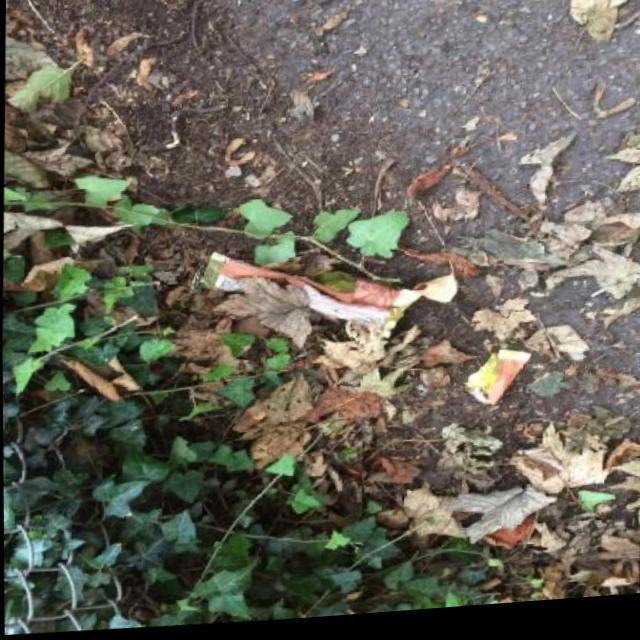plastic: (195, 235, 424, 353), (462, 344, 532, 409)
